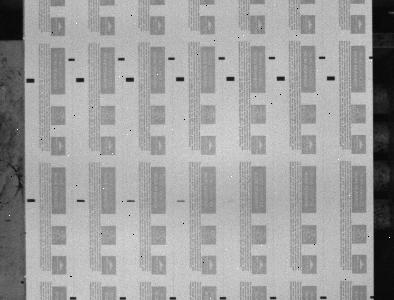backgroundclutter: (21, 280, 24, 284)
incorrect qblock: (27, 198, 35, 202), (76, 199, 85, 202), (126, 200, 135, 202), (176, 200, 185, 202), (370, 296, 374, 299), (369, 56, 373, 59)
qblock: (26, 78, 35, 83), (226, 76, 235, 81), (126, 77, 134, 82), (277, 76, 285, 81), (176, 77, 185, 81), (327, 76, 335, 80), (76, 78, 84, 82)
smallqblock: (219, 296, 227, 300), (70, 296, 77, 300), (118, 57, 125, 61), (119, 297, 126, 300), (270, 296, 277, 299), (169, 297, 176, 300), (320, 296, 327, 299), (68, 58, 75, 61), (218, 57, 225, 60), (168, 57, 175, 60), (319, 56, 325, 59), (269, 56, 275, 59)
